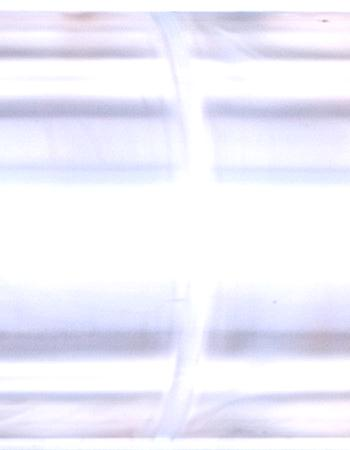soldas: (136, 4, 231, 443)
